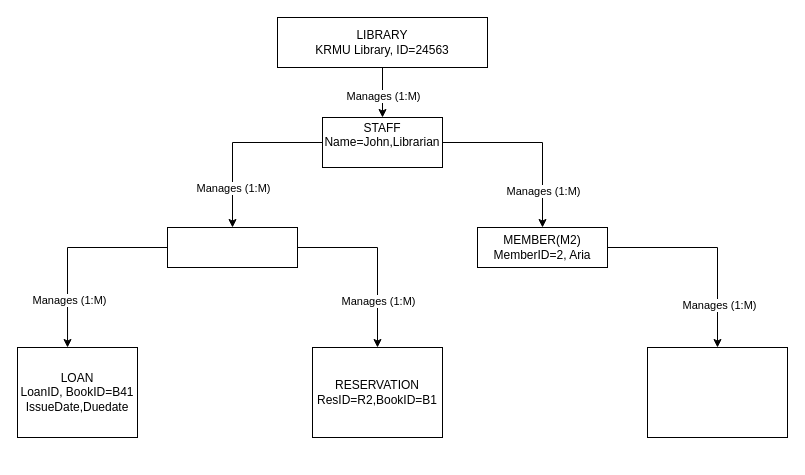
Some shapes in this 805 by 475 pixel diagram are drawn without their labels. The shapes that lost their labels are listed below. From the top down, each one's centre as x and y in pixels, then its label:
At pixel 232 247: "MEMBER(M1) MemberID=1,Sasha".
At pixel 717 392: "RESERVATION ResID=R2, BookID=B16".
